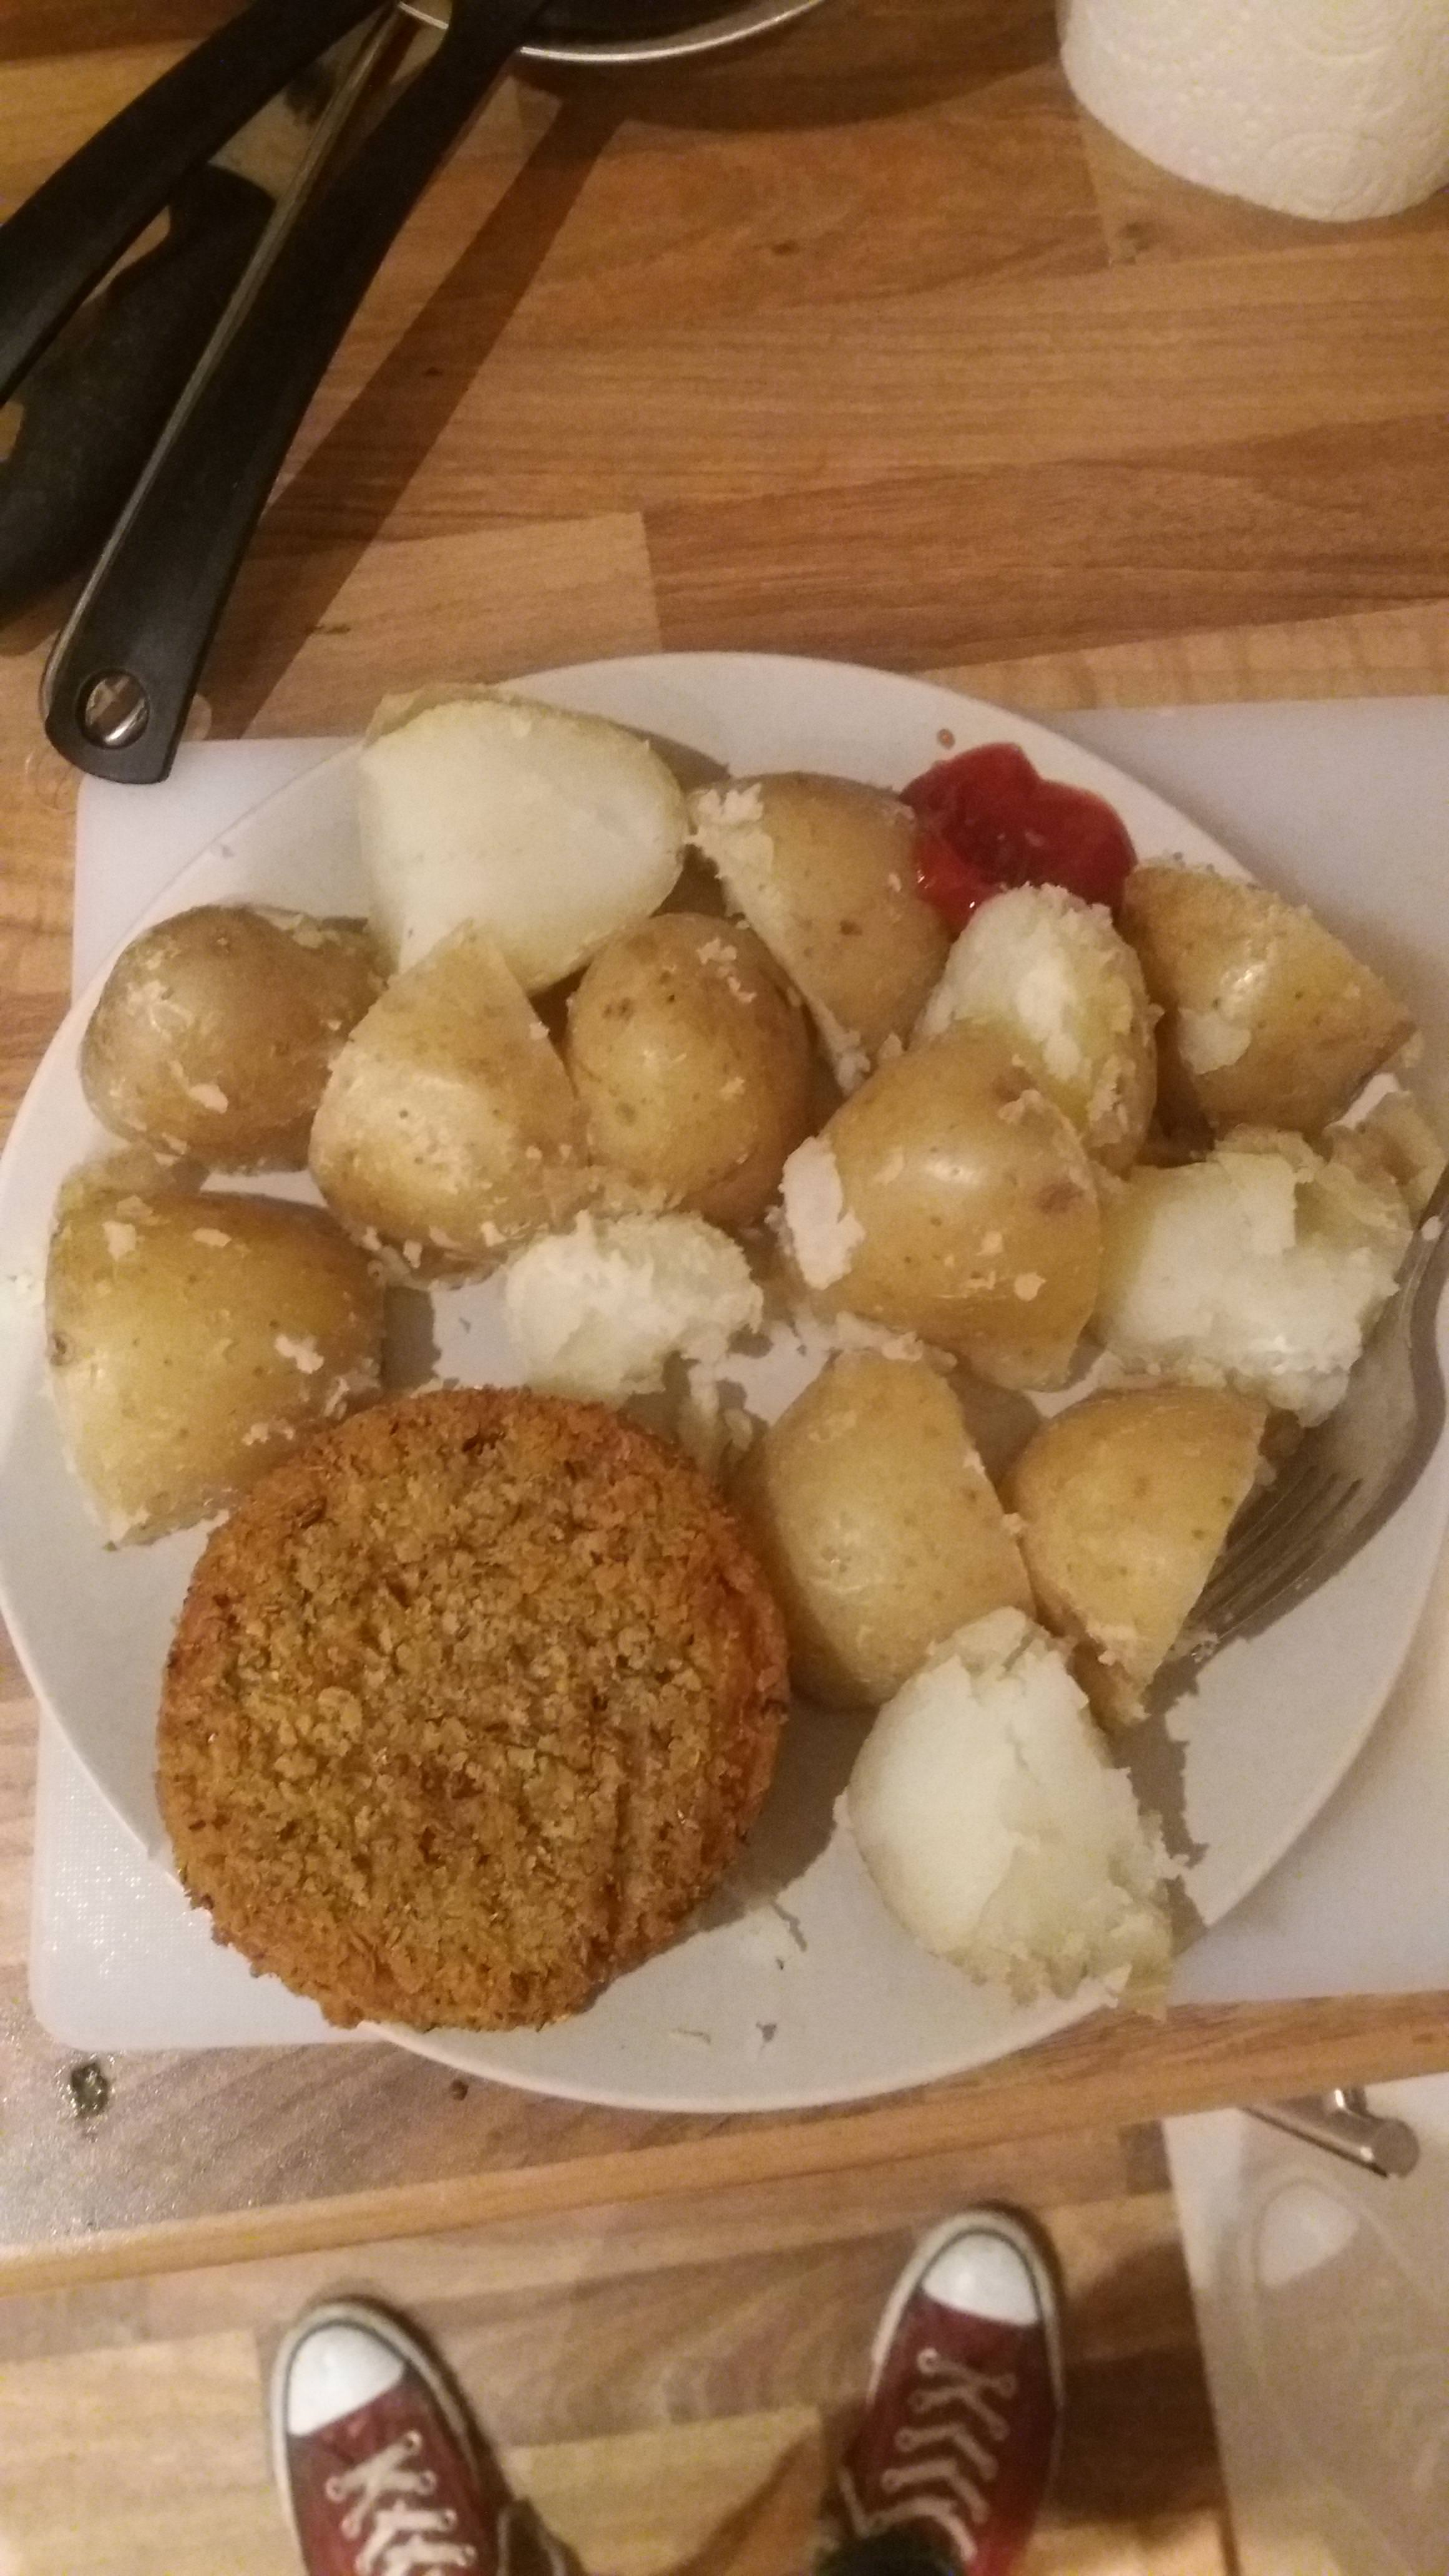boiled potatoes: (379, 747, 1049, 1258), (763, 1063, 1256, 1580), (58, 959, 366, 1417), (807, 1638, 1215, 1941)
